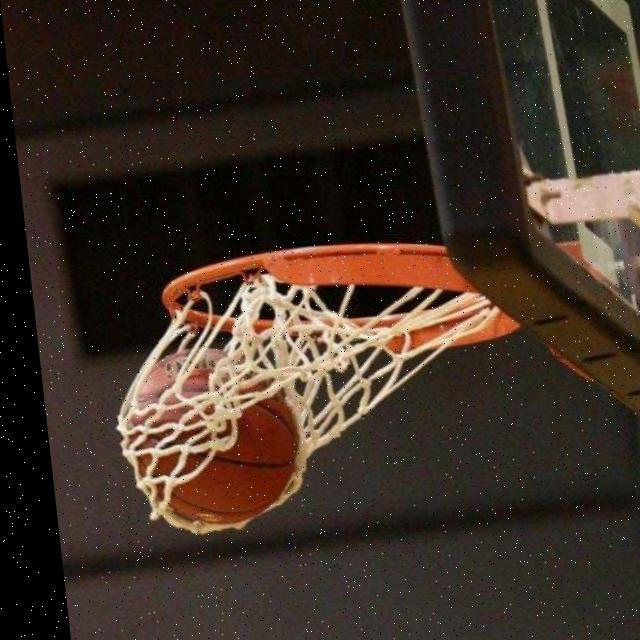hoop: (125, 241, 526, 475)
